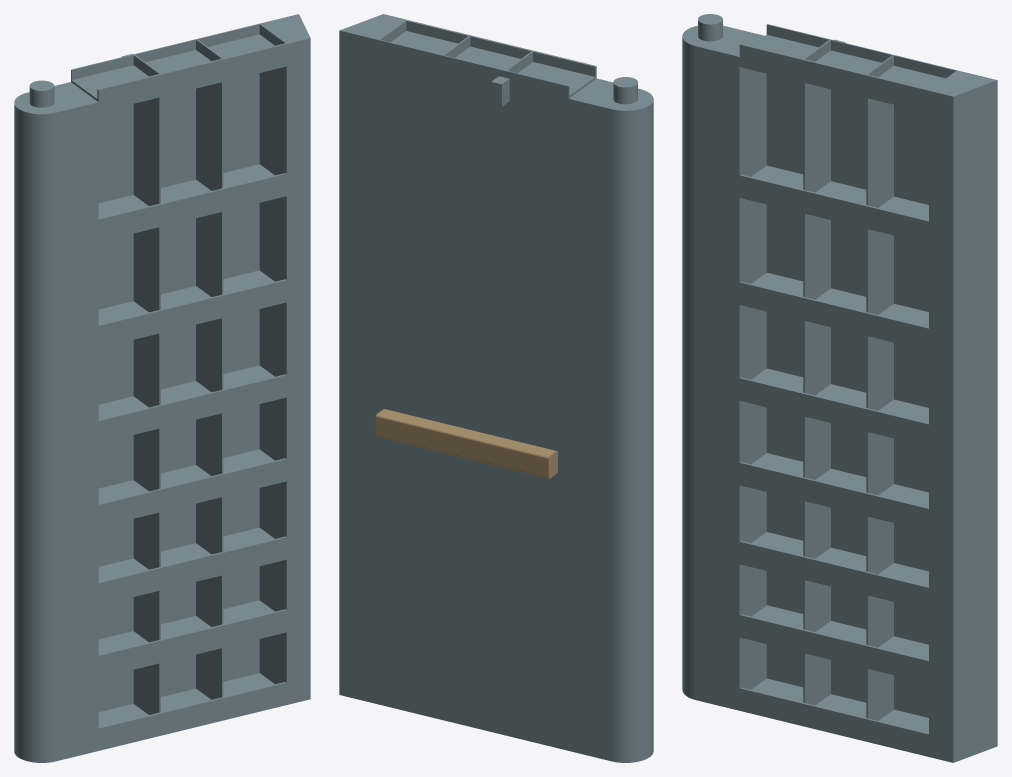
The model's file is step_12.glb.
3 views of the same model, side by side, from view 1: azimuth 30°, elevation 25°; view 2: azimuth 150°, elevation 25°; view 3: azimuth 330°, elevation 25° (orthographic).
Visible parts, largest first — view 1: part__gate leaf (welded S355 steel); view 2: part__gate leaf (welded S355 steel), part__oak fenders; view 3: part__gate leaf (welded S355 steel).
Part boxes in pixels (x1,y1,x2,y2): part__gate leaf (welded S355 steel): (14,14,310,762); part__gate leaf (welded S355 steel): (339,14,653,762); part__oak fenders: (375,409,557,478); part__gate leaf (welded S355 steel): (682,14,997,762).
Bounding box in the file's own units: 2760 × 5950 × 600.
